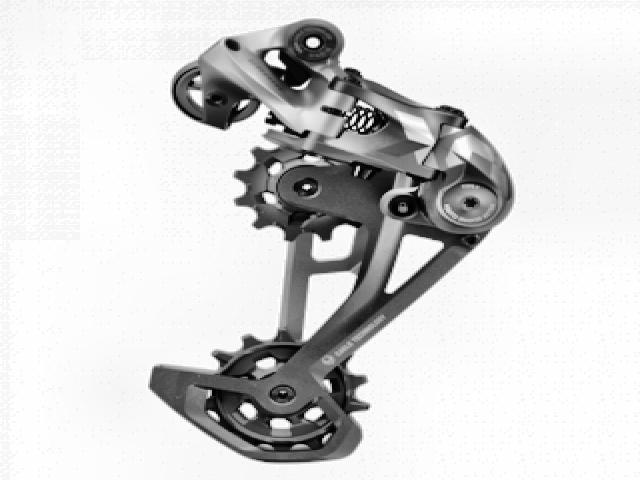rear_derailleur: (141, 13, 517, 465)
